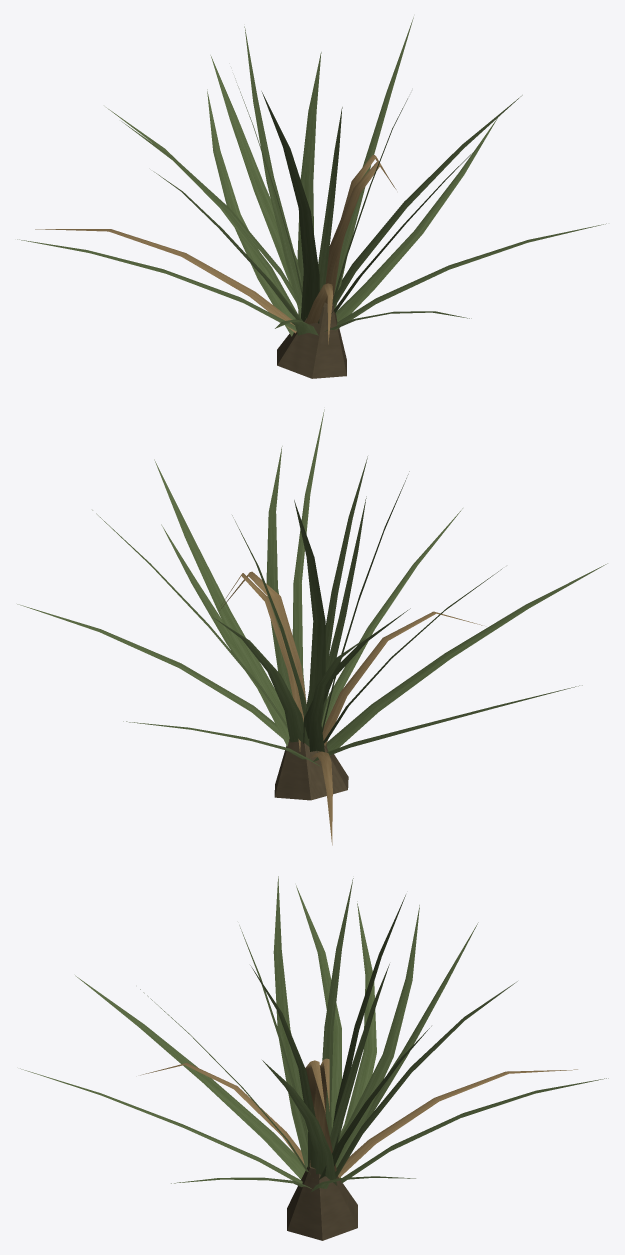
Rendered from SM_CN_Yucca_A_LOD1.glb.
3 renders of one model, top to bottom at view 1: azimuth 30°, elevation 25°; view 2: azimuth 150°, elevation 25°; view 3: azimuth 270°, elevation 25°, orthographic. The views are drawn at different scales.
Parts seen in each view (by area): view 1: SM_CN_Yucca_A_LOD1; view 2: SM_CN_Yucca_A_LOD1; view 3: SM_CN_Yucca_A_LOD1.
Boxes of the visible parts, left/top/right/bottom form: SM_CN_Yucca_A_LOD1: left=17, top=17, right=606, bottom=378; SM_CN_Yucca_A_LOD1: left=17, top=409, right=607, bottom=845; SM_CN_Yucca_A_LOD1: left=20, top=876, right=608, bottom=1240.
Bounding box in the file's own units: 1.32 × 0.78 × 1.32.
Materials: 2 (2 with a texture image).
